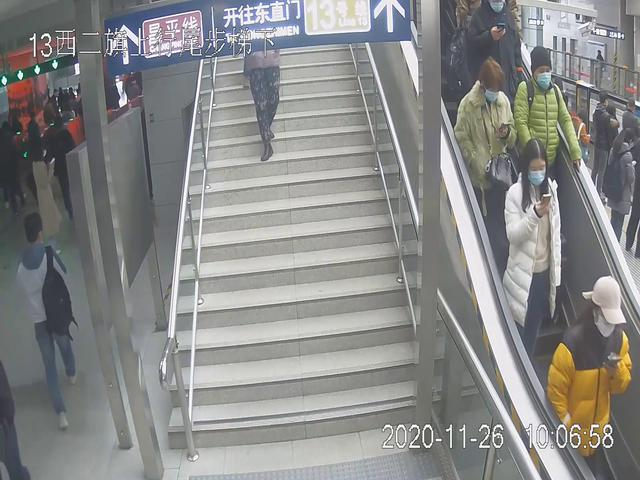person: (544, 273, 640, 480), (498, 136, 564, 396), (14, 209, 85, 434), (514, 44, 585, 241), (453, 53, 517, 253)
